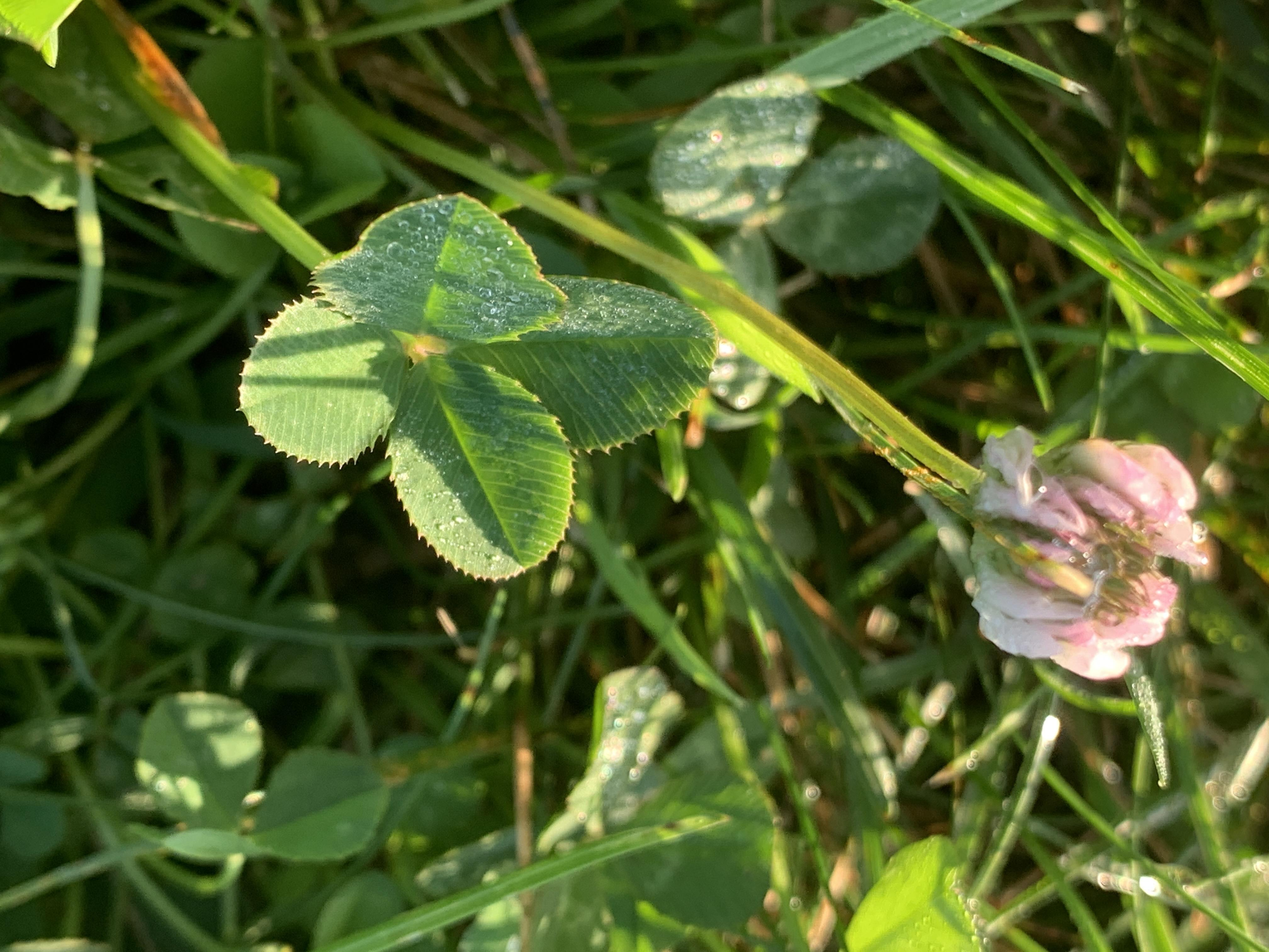4-Leaf-Clovers: (506, 177, 1006, 540)
